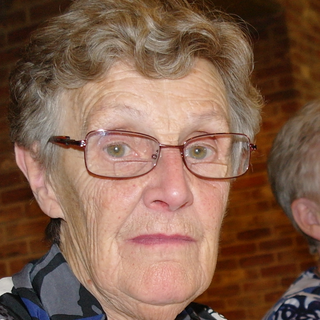eye: (97, 140, 139, 162), (182, 141, 221, 164)
